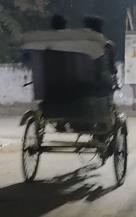Auto: (15, 24, 132, 189)
